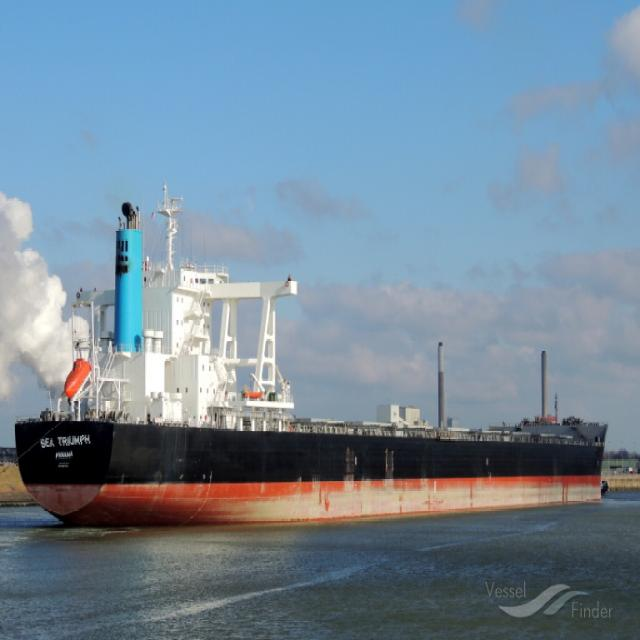OCR: (39, 428, 94, 466)
